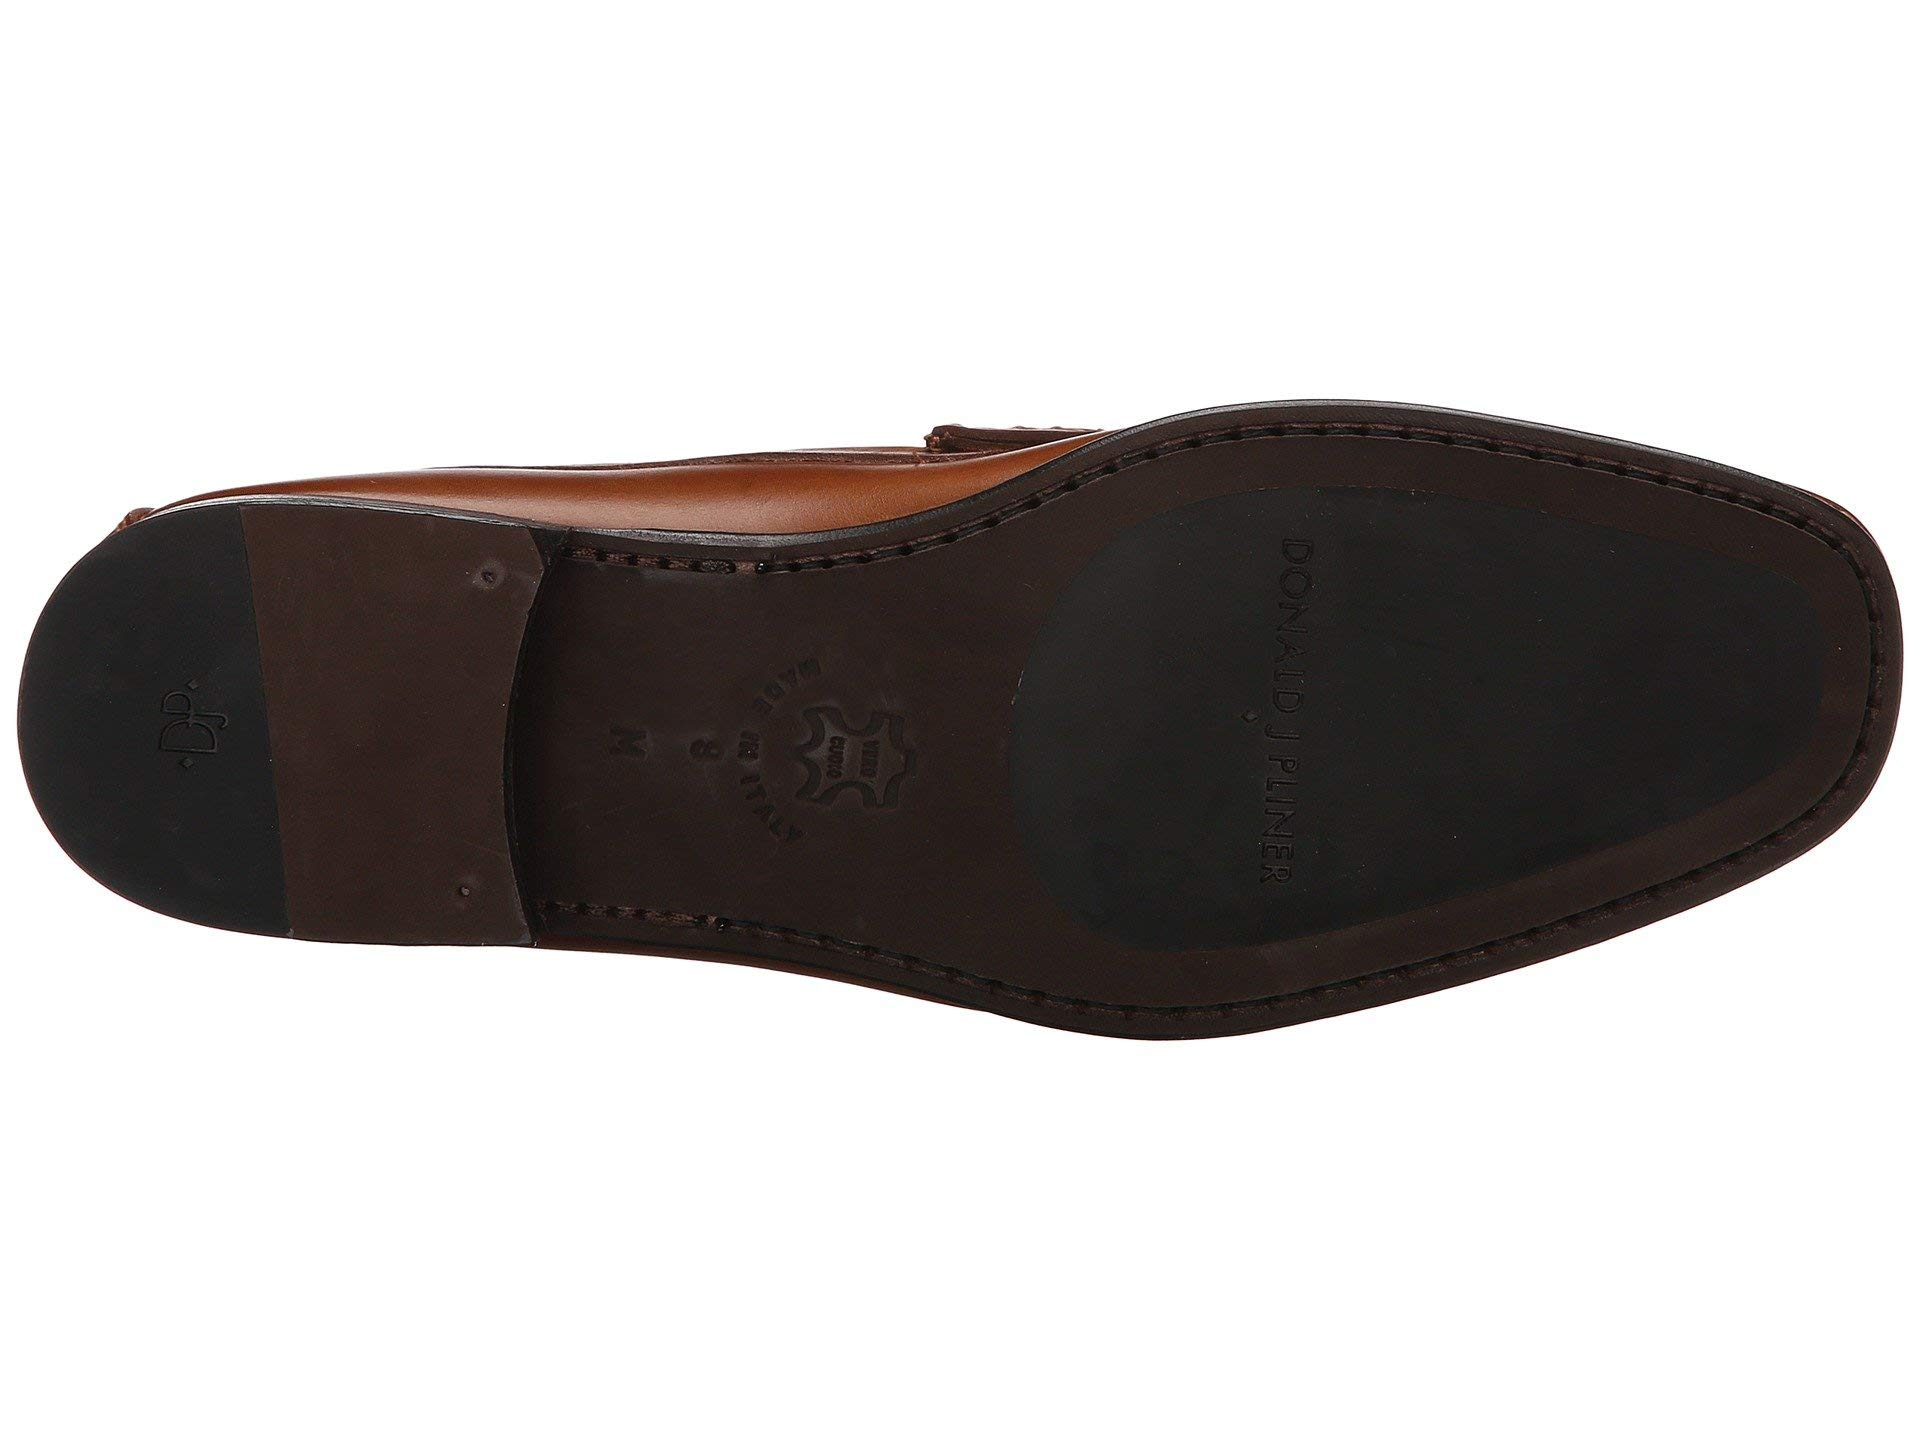text: (576, 682, 671, 793), (667, 691, 745, 793)
